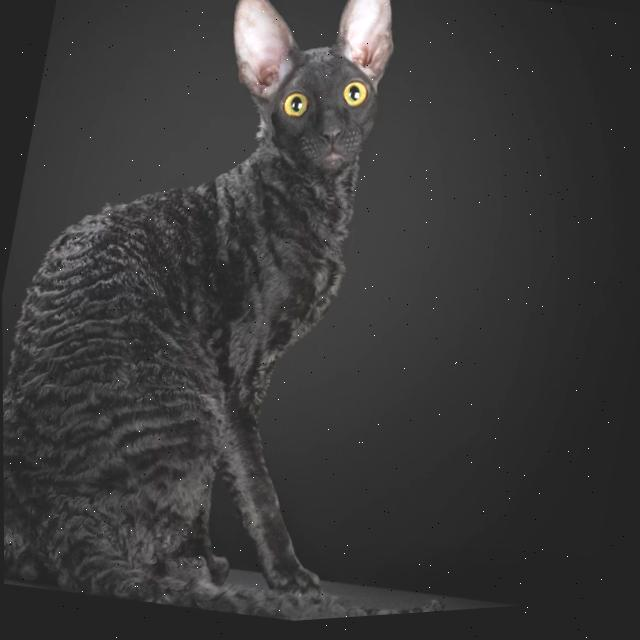Cornish Rex: (0, 0, 565, 640)
